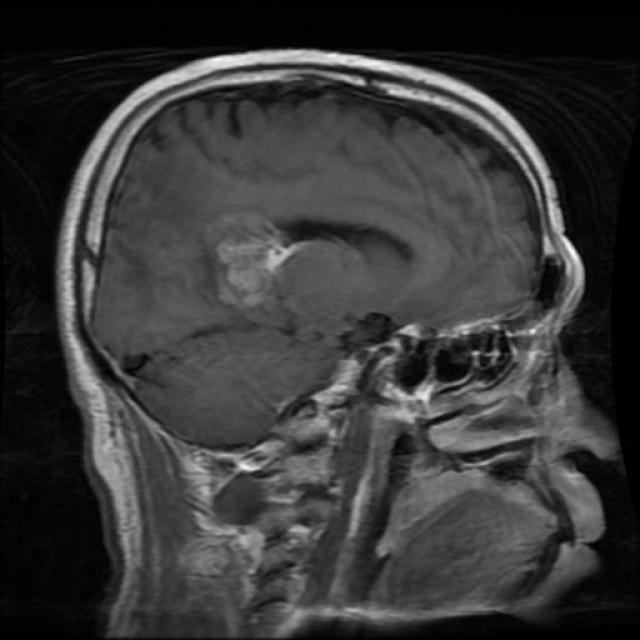glioma: (194, 206, 418, 300)
